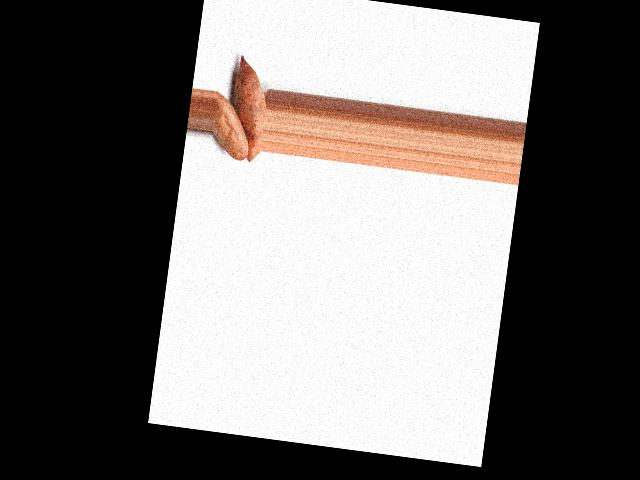sweet_potato: (208, 87, 255, 161)
